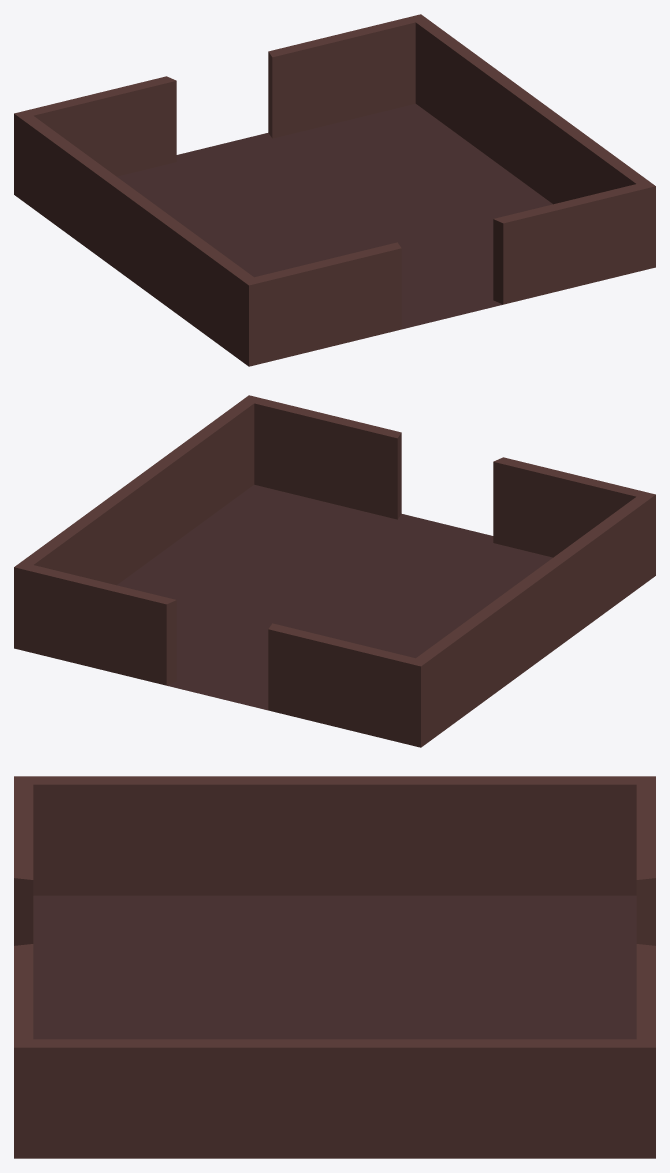
File: 2WayDirtRoom.fbx
3 views of the same model, one above another, from view 1: azimuth 30°, elevation 25°; view 2: azimuth 150°, elevation 25°; view 3: azimuth 270°, elevation 25° (orthographic). The views are drawn at different scales.
Parts seen in each view (by area): view 1: DirtRoom2wayWall, DirtRoom2wayFloor; view 2: DirtRoom2wayWall, DirtRoom2wayFloor; view 3: DirtRoom2wayWall, DirtRoom2wayFloor.
Part boxes in pixels (<box>): DirtRoom2wayWall: <box>14,14,655,366</box>; DirtRoom2wayFloor: <box>117,103,552,329</box>; DirtRoom2wayWall: <box>14,395,655,747</box>; DirtRoom2wayFloor: <box>117,484,552,710</box>; DirtRoom2wayWall: <box>14,776,655,1158</box>; DirtRoom2wayFloor: <box>33,895,636,1039</box>.
Bounding box in the file's own units: 796 × 152 × 796.
1 material, 1 textured.
